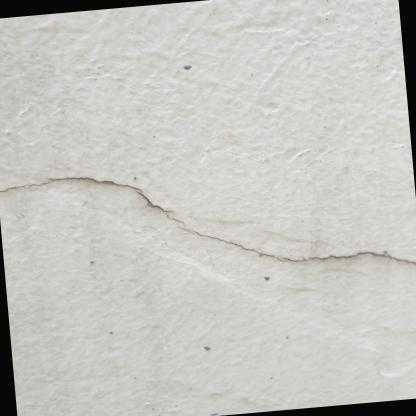crack: (0, 176, 416, 263)
